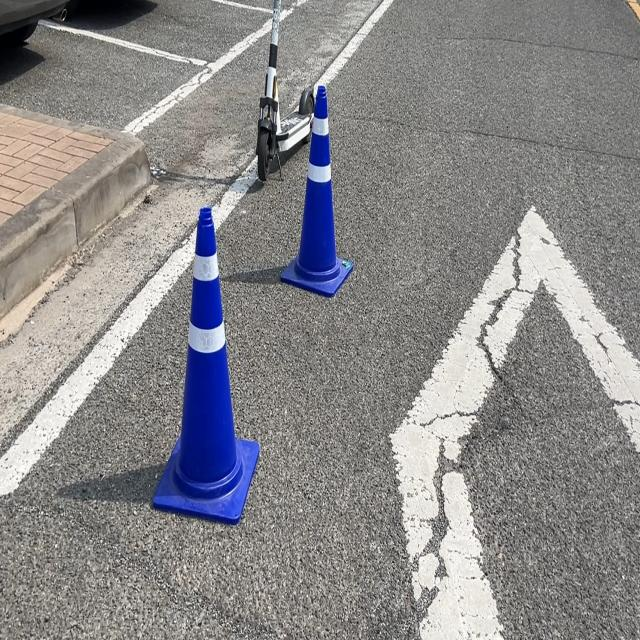b_rub: (153, 206, 259, 524), (281, 81, 353, 296)
